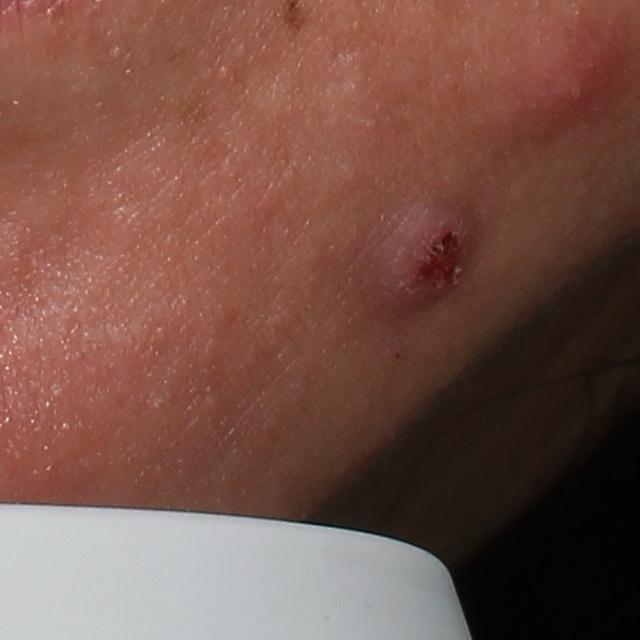nodule: (353, 179, 482, 324)
